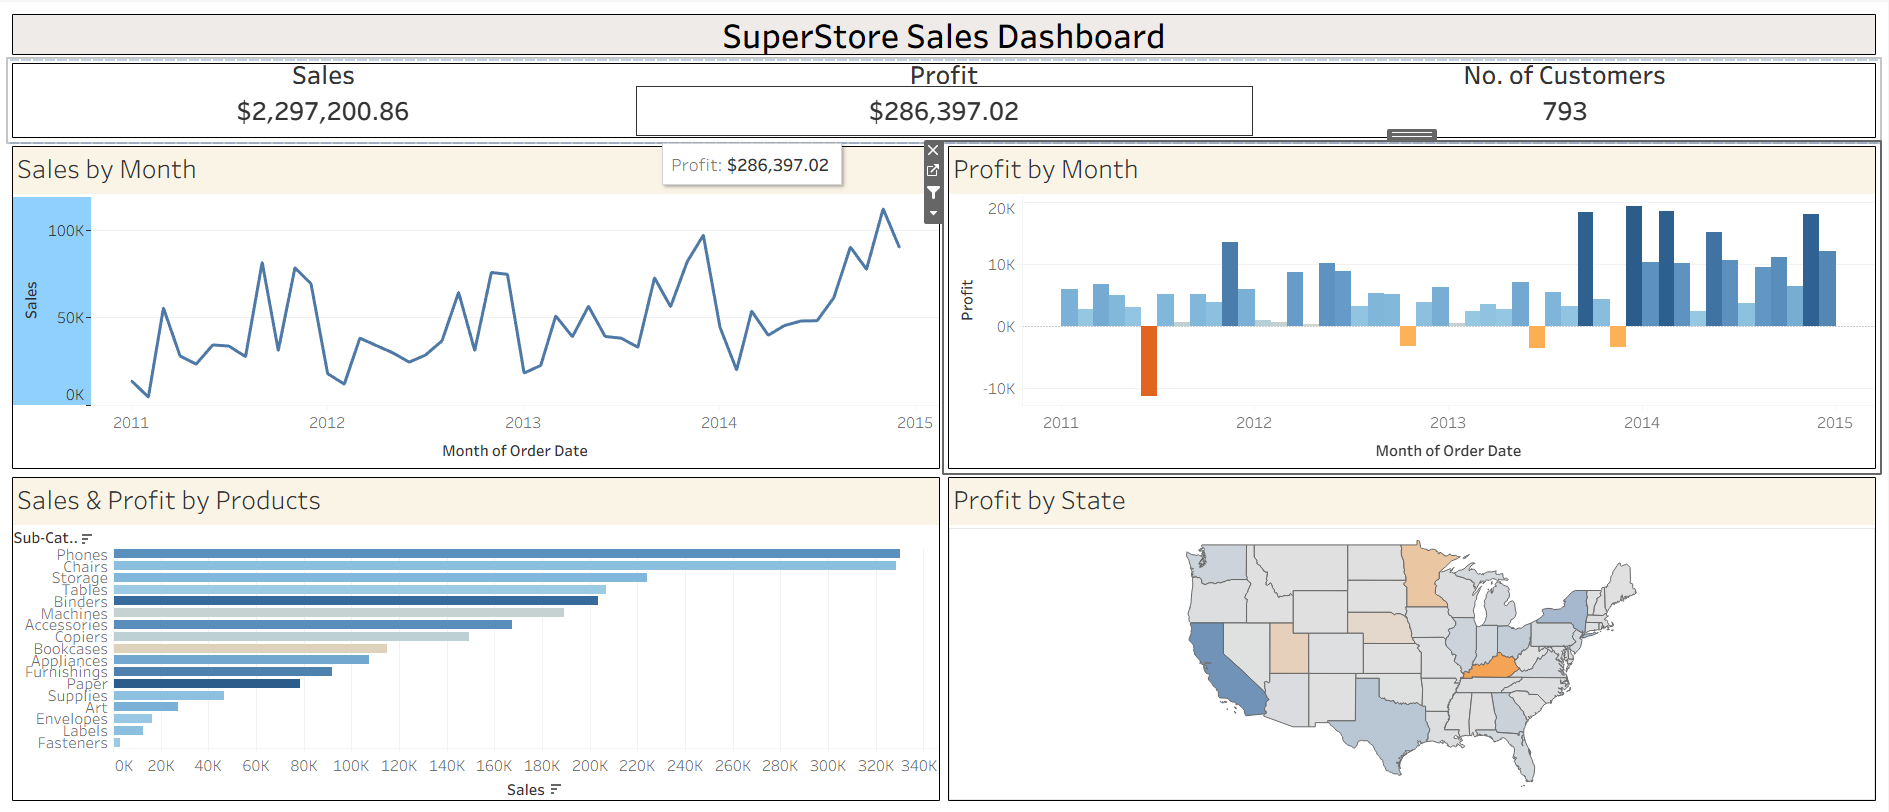

This screenshot's page, from the dashboard's own definition file:
{"tool":"tableau","page":{"name":"SuperStore Sales Dashboard","canvas":[1000,1000],"units":"permille","ordinal":0},"visuals":[{"type":"title","box":[4.8,9.9,990.4,60.4]},{"type":"worksheet","title":"KPIs","mark":"Automatic","box":[4.8,70.3,990.4,102.3]},{"type":"worksheet","title":"Sales by Month","mark":"Automatic","rows":["Sales"],"cols":["Order Date"],"box":[4.8,172.6,495.2,408.7]},{"type":"worksheet","title":"Profit by Month","mark":"Bar","rows":["Profit"],"cols":["Order Date"],"box":[500,172.6,495.2,408.7]},{"type":"worksheet","title":"Sales & Profit by Products","mark":"Automatic","rows":["Sub-Category"],"cols":["Sales"],"box":[4.8,581.3,495.2,408.9]},{"type":"worksheet","title":"Profit by State","mark":"Multipolygon","box":[500,581.3,495.2,408.9]}]}

Visuals, with their boxes on the dashboard's canvas, which has no fixed pixel size, in thousandths of its width and height (x1, y1, x2, y2). These are canvas units, not pixel positions in the 1889x812 screenshot, which may show the page scaled, cropped or inside an application window:
title: {"x1": 5, "y1": 10, "x2": 995, "y2": 70}
"KPIs" worksheet: {"x1": 5, "y1": 70, "x2": 995, "y2": 173}
"Sales by Month" worksheet: {"x1": 5, "y1": 173, "x2": 500, "y2": 581}
"Profit by Month" worksheet (Bar marks): {"x1": 500, "y1": 173, "x2": 995, "y2": 581}
"Sales & Profit by Products" worksheet: {"x1": 5, "y1": 581, "x2": 500, "y2": 990}
"Profit by State" worksheet (Multipolygon marks): {"x1": 500, "y1": 581, "x2": 995, "y2": 990}
